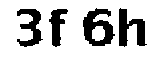3: (13, 5, 45, 51)
6: (78, 6, 114, 51)
f: (47, 6, 70, 48)
h: (117, 5, 148, 53)
